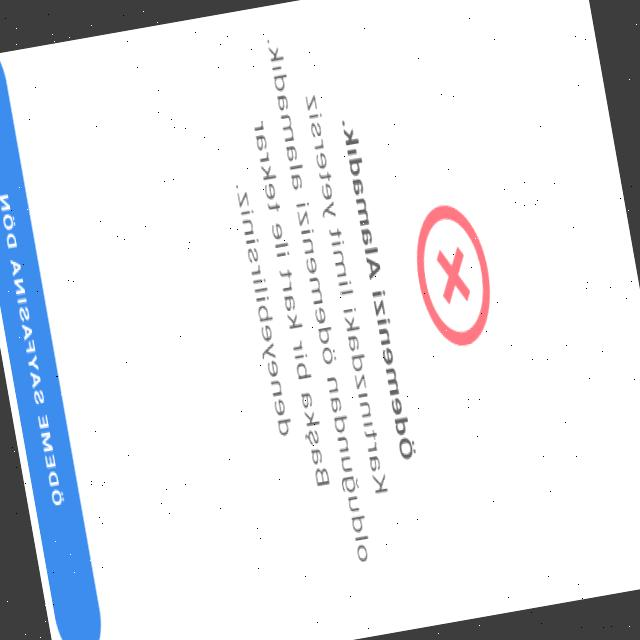QLabel: (199, 24, 406, 582), (331, 106, 424, 478), (0, 187, 66, 509)
VBtn: (0, 51, 109, 640)
VFooter: (0, 49, 126, 640)
VImg: (404, 190, 504, 358)
